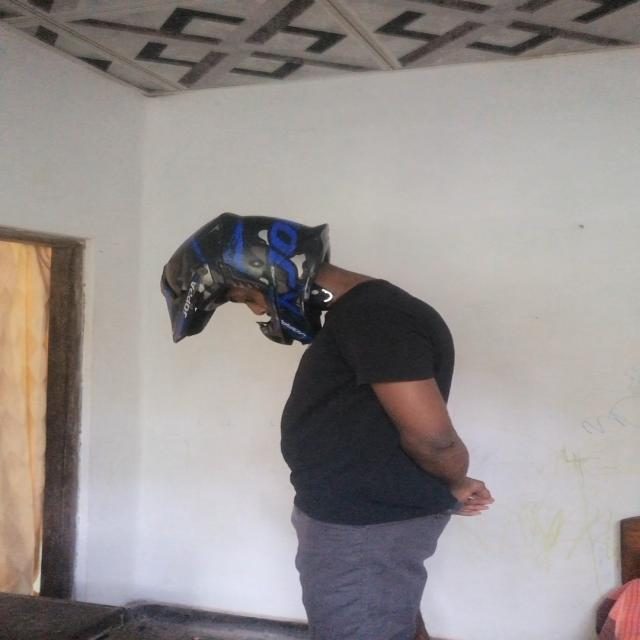Helmet_Wearer: (138, 205, 372, 346)
Person: (208, 202, 497, 640)
